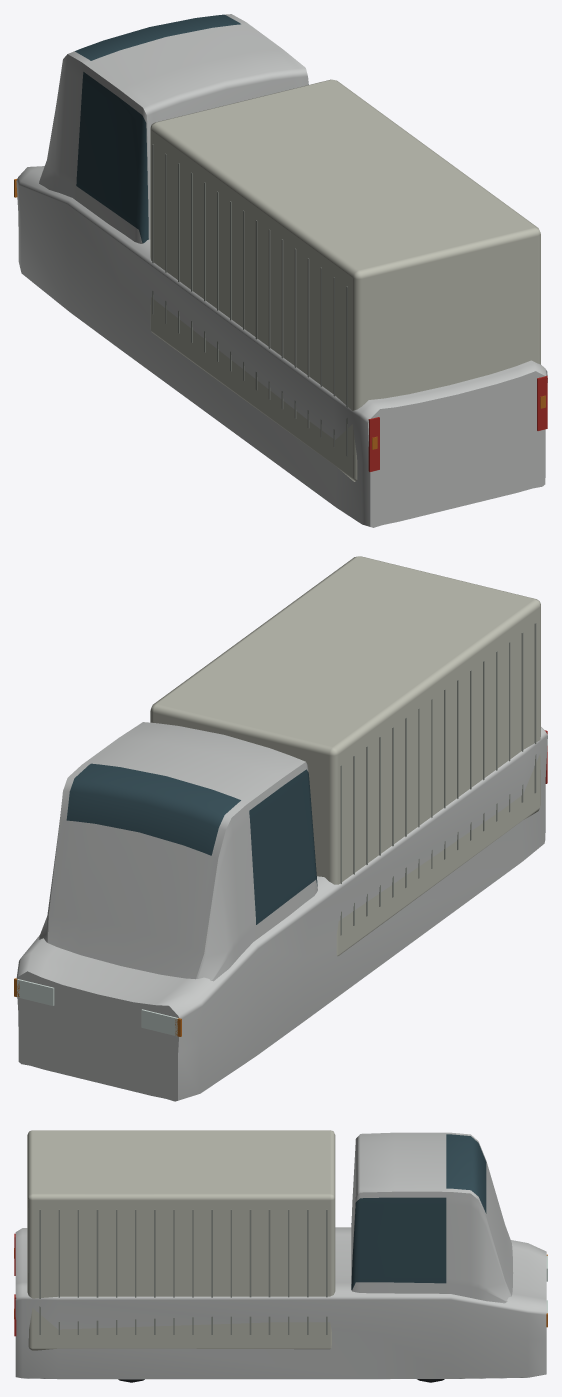
Rendered from coastal-freight-lod.glb.
3 views of the same model, one above another, from view 1: azimuth 30°, elevation 25°; view 2: azimuth 150°, elevation 25°; view 3: azimuth 270°, elevation 25° (orthographic). The views are drawn at different scales.
Visible parts, largest first — view 1: trim, paint, glass, brake; view 2: paint, trim, glass, head; view 3: trim, paint, glass.
Boxes of the visible parts, left/top/right/bottom form: trim: left=150, top=79, right=540, bottom=481; paint: left=16, top=14, right=547, bottom=527; glass: left=75, top=14, right=308, bottom=243; brake: left=368, top=375, right=547, bottom=471; paint: left=16, top=722, right=547, bottom=1101; trim: left=150, top=556, right=540, bottom=956; glass: left=66, top=763, right=317, bottom=924; head: left=17, top=979, right=178, bottom=1036; trim: left=27, top=1130, right=335, bottom=1350; paint: left=15, top=1132, right=546, bottom=1379; glass: left=351, top=1134, right=486, bottom=1290.
Size of the model in its own units: 2.37 by 3.18 by 7.74.
